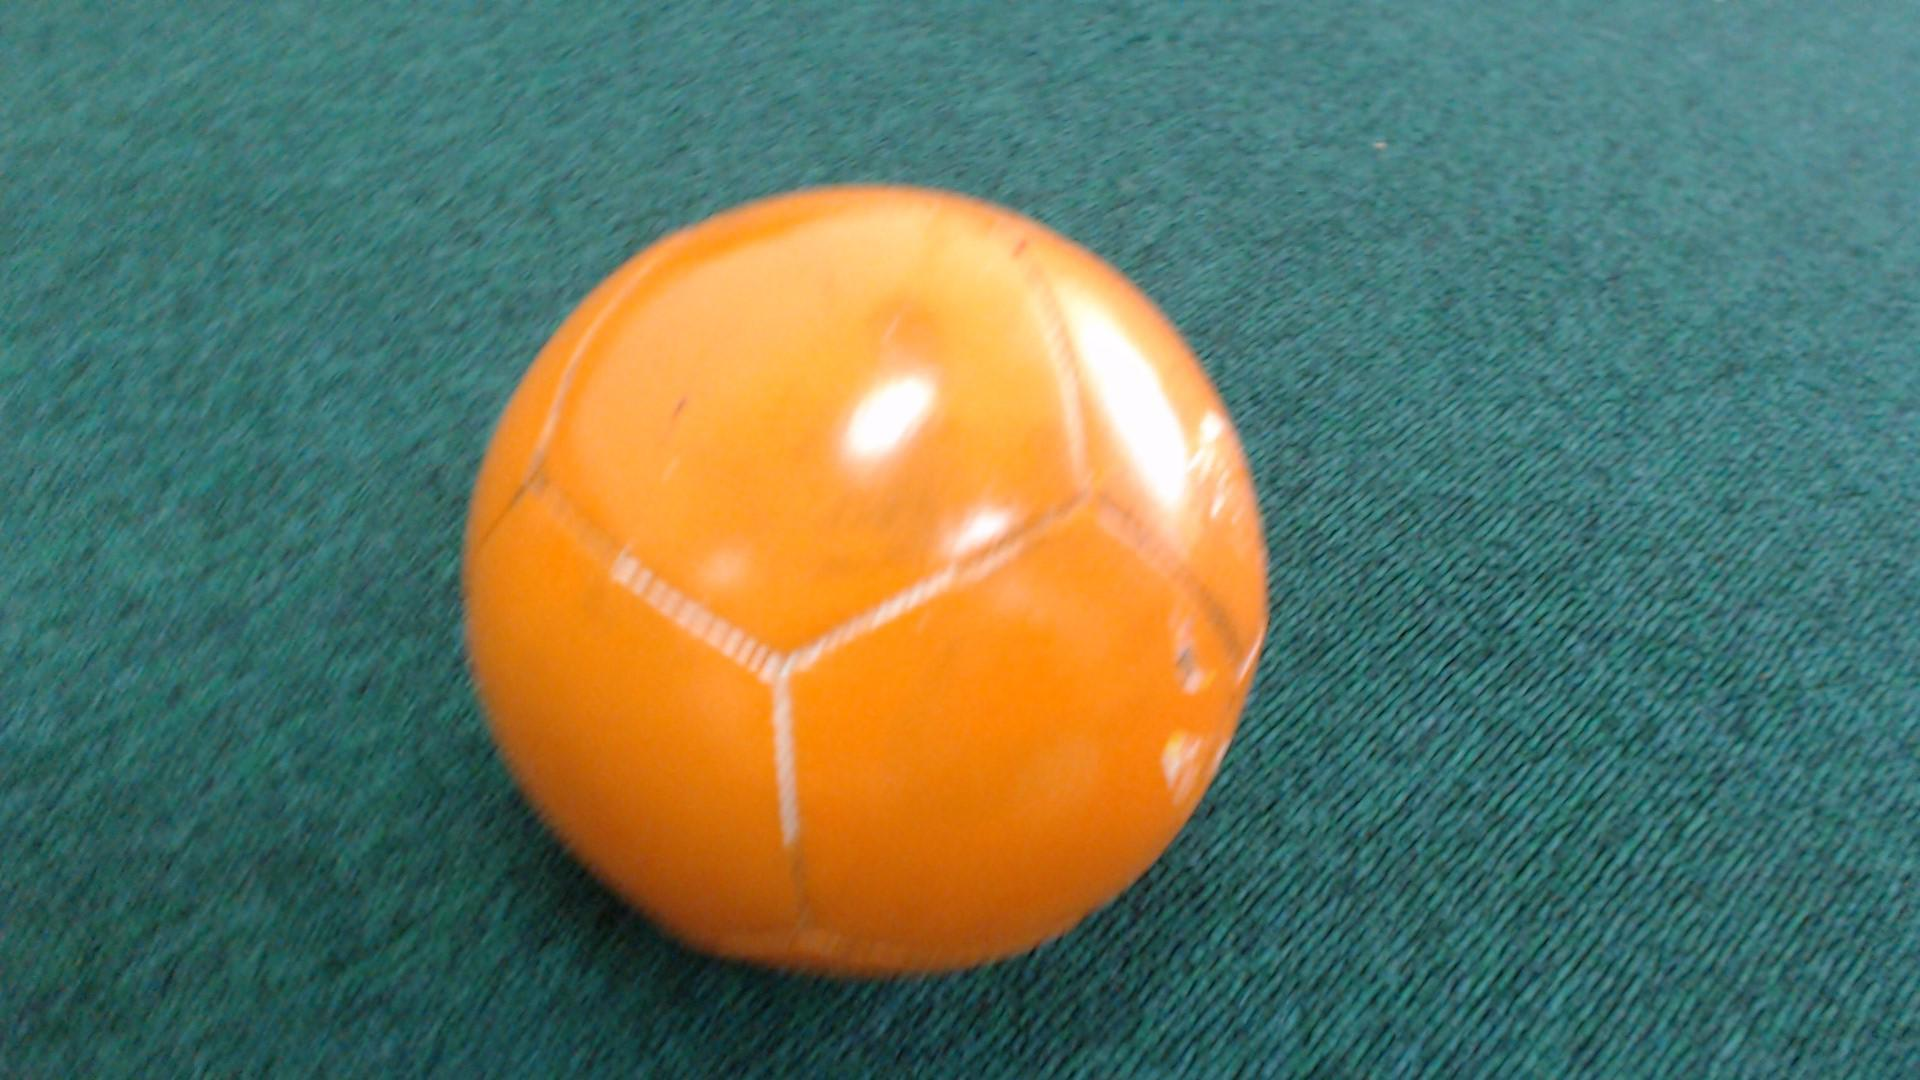bola: (404, 171, 1296, 1015)
